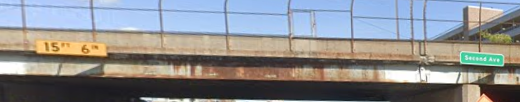1: (41, 40, 51, 53)
5: (49, 41, 60, 53)
6: (79, 42, 89, 56)
overheadsign: (33, 38, 107, 58)
